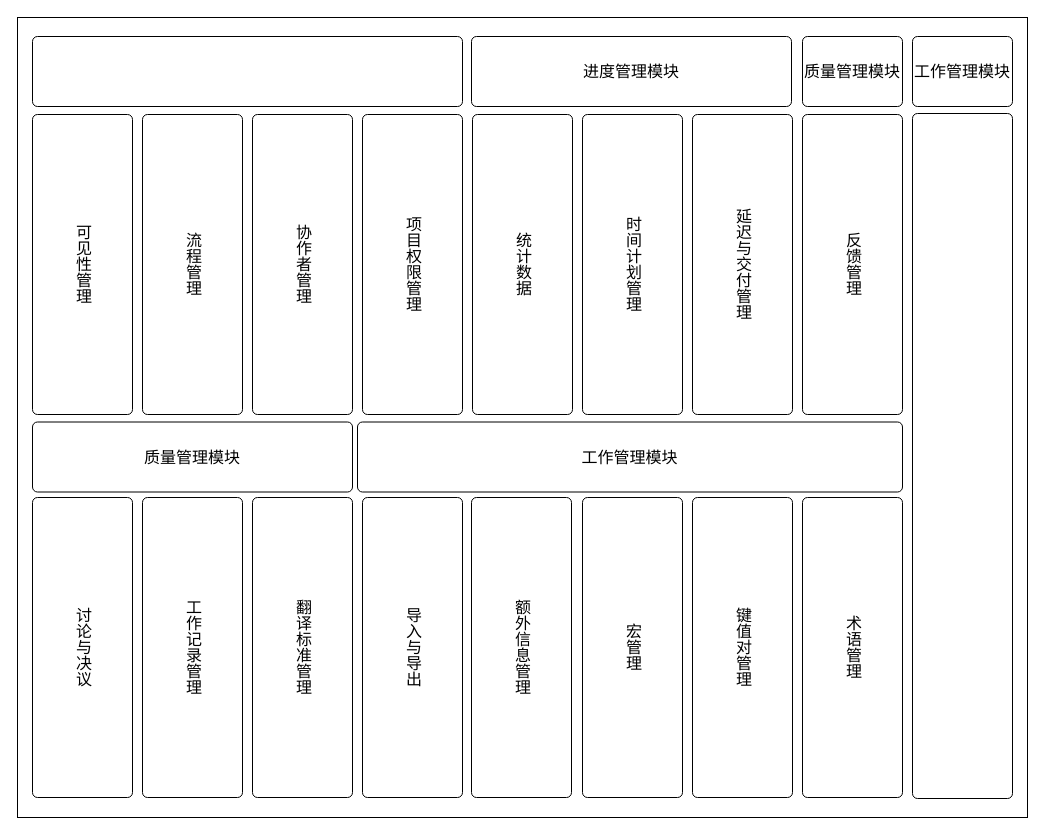
Some shapes in this 1045 by 835 pixel diagram are drawn without their labels. Here are the shapes that lost their labels. From the top down, the centre of each, then its label:
(247,71): 项目管理模块
(962,455): 翻译管理*
